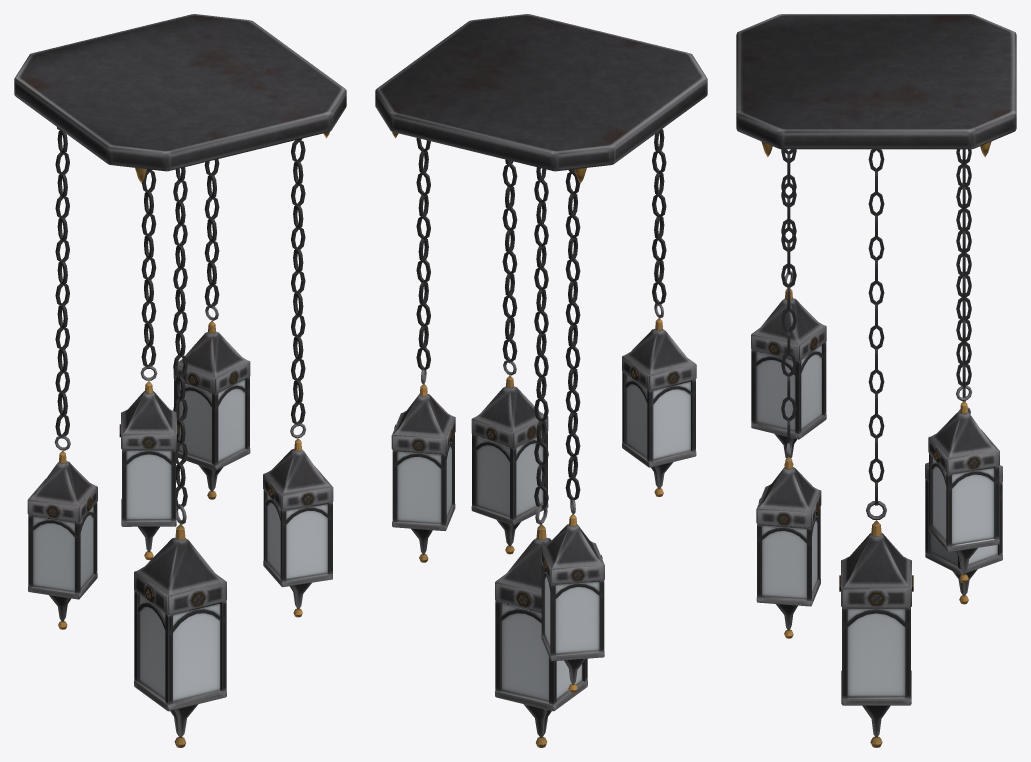
The model's file is LanternCluster.fbx.
The picture shows the model from 3 angles, left to right: view 1: azimuth 30°, elevation 25°; view 2: azimuth 150°, elevation 25°; view 3: azimuth 270°, elevation 25°; orthographic projection.
Visible parts, largest first — view 1: LanternCluster_Main, LanternCluster_Glass; view 2: LanternCluster_Main, LanternCluster_Glass; view 3: LanternCluster_Main, LanternCluster_Glass.
Part boxes in pixels (left/top/right/bottom): LanternCluster_Main: left=14, top=14, right=346, bottom=747; LanternCluster_Glass: left=33, top=379, right=327, bottom=701; LanternCluster_Main: left=375, top=14, right=707, bottom=747; LanternCluster_Glass: left=397, top=375, right=690, bottom=701; LanternCluster_Main: left=736, top=14, right=1016, bottom=747; LanternCluster_Glass: left=756, top=345, right=997, bottom=696.
Bounding box in the file's own units: 160 × 425 × 160.
